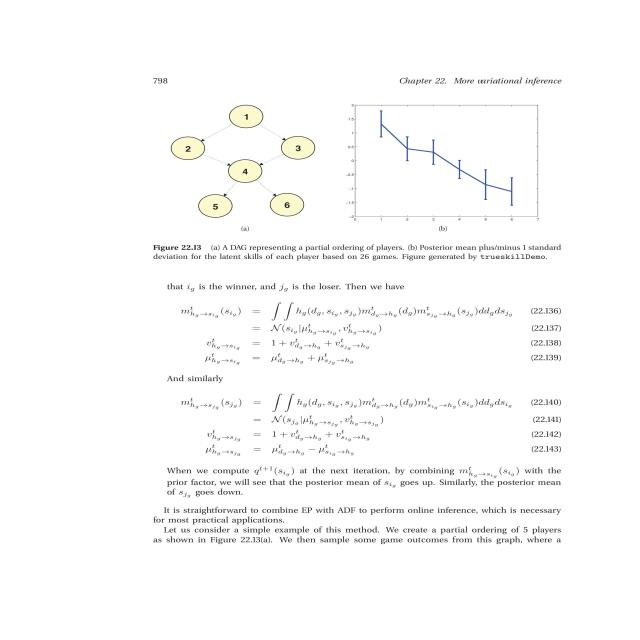diagram: (97, 95, 598, 284)
